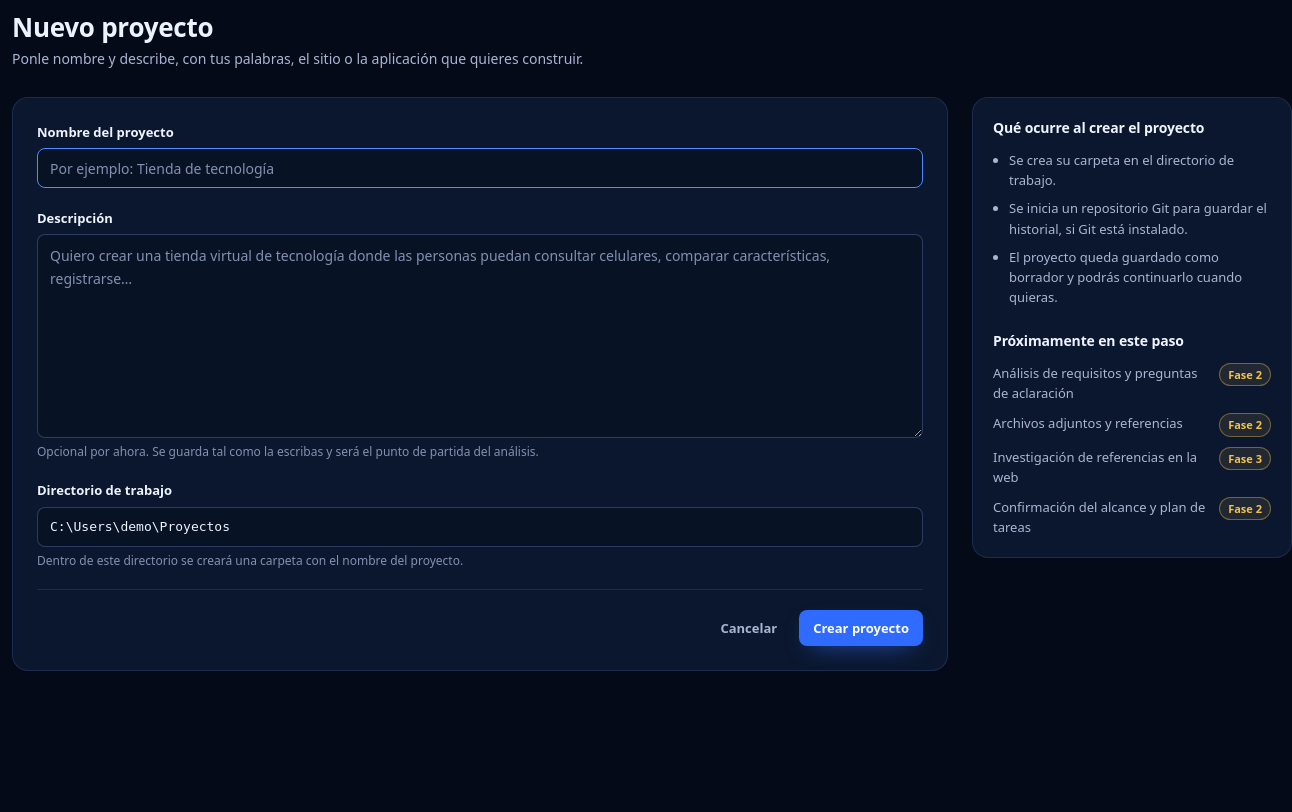
Scenario: NewProject › muestra los errores generales del backend
In the field labelled "Nombre del proyecto": (480, 168) [37,148,923,188], type "Demo"
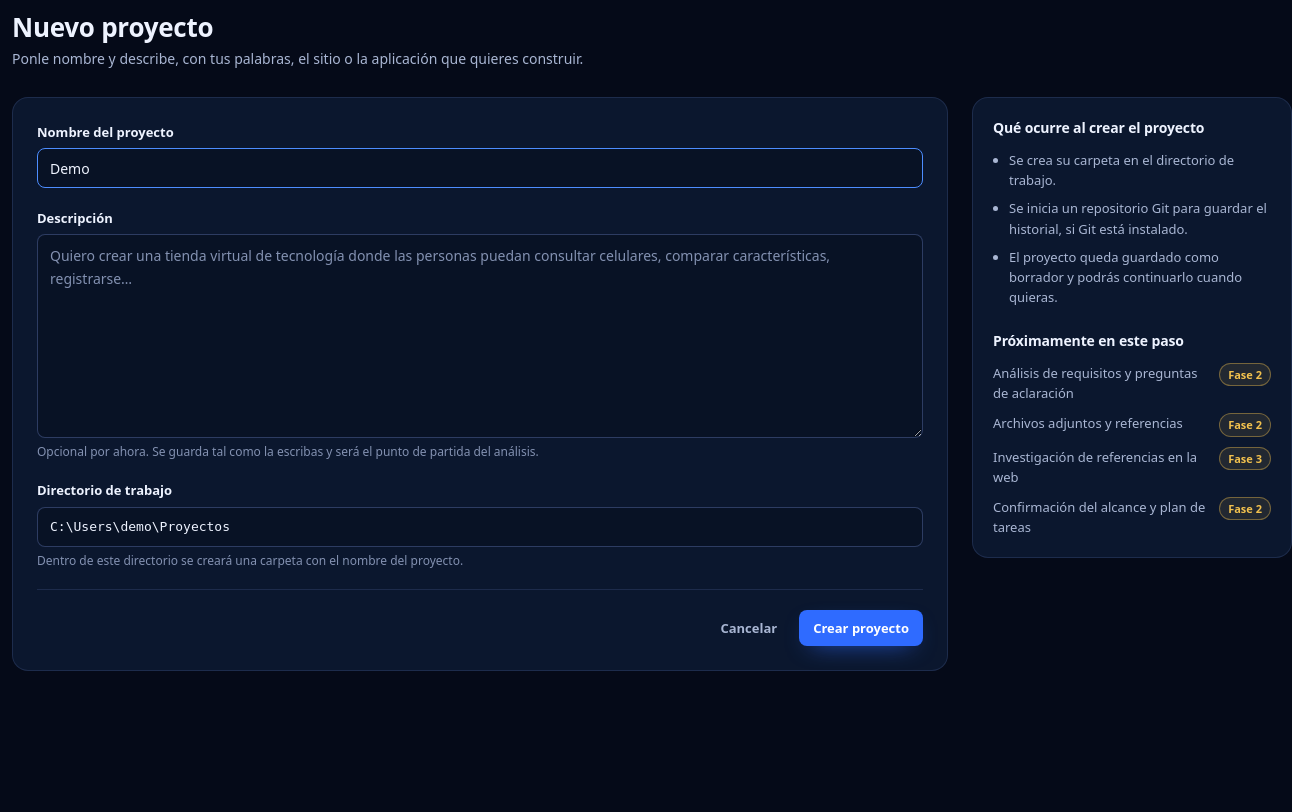
Click the button "Crear proyecto": (861, 628) [799,610,923,646]
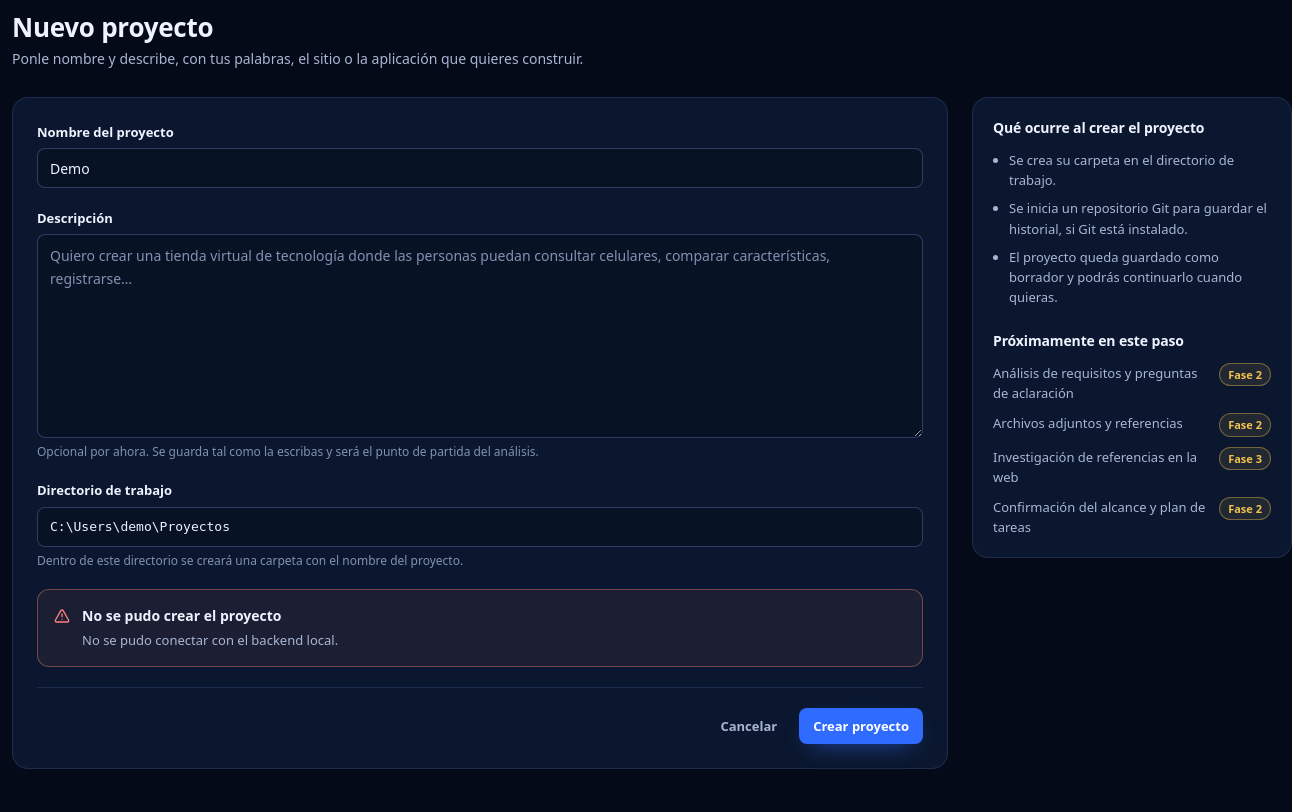
expect the message shows "No se pudo conectar con el backend local.": met, box [82,631,338,649]
